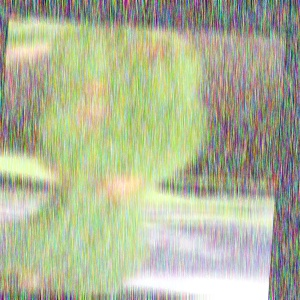Brown_Spot: (90, 163, 148, 208), (0, 263, 64, 300), (124, 34, 177, 74), (73, 99, 116, 137), (78, 74, 121, 101)
